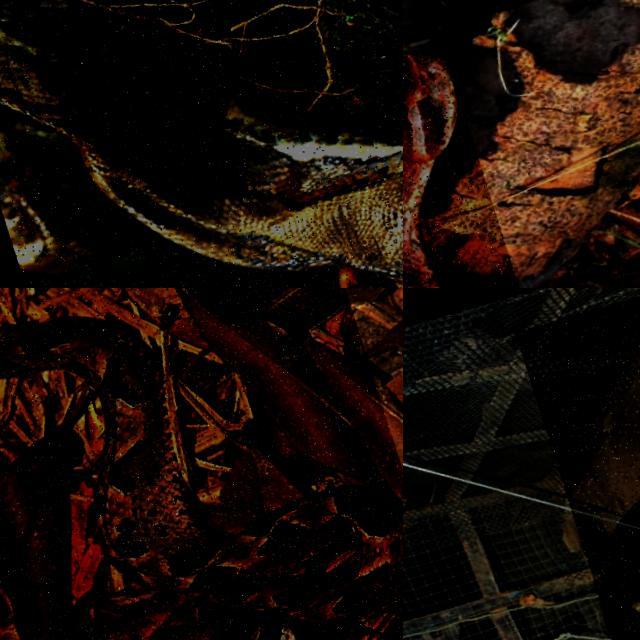Calloselasma rhodostoma: (0, 317, 402, 639), (403, 50, 458, 287)
Malayopython reticulatus: (0, 0, 402, 282), (601, 527, 639, 639)
snake: (0, 317, 402, 639), (0, 0, 402, 282), (403, 50, 458, 287), (601, 527, 639, 639)
